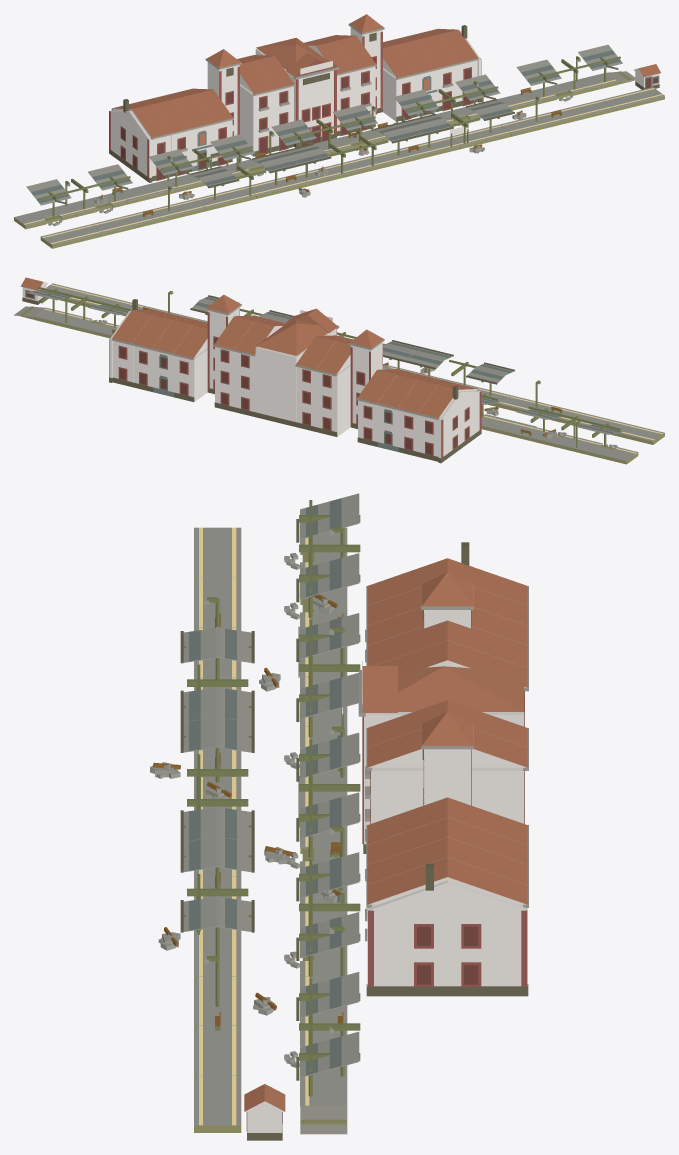
The model's file is SM_EstacionCastellon_v2_LOD1.fbx.
3 renders of one model, top to bottom at view 1: azimuth 30°, elevation 25°; view 2: azimuth 150°, elevation 25°; view 3: azimuth 270°, elevation 25°, orthographic. The views are drawn at different scales.
Visible parts, largest first — view 1: SM_bloques.estacion_castellon_v2_LOD1; view 2: SM_bloques.estacion_castellon_v2_LOD1; view 3: SM_bloques.estacion_castellon_v2_LOD1.
Boxes of the visible parts, box(x1,y1,x2,y2) form: SM_bloques.estacion_castellon_v2_LOD1: box(14, 14, 664, 248); SM_bloques.estacion_castellon_v2_LOD1: box(14, 277, 664, 464); SM_bloques.estacion_castellon_v2_LOD1: box(150, 493, 528, 1140).
Bounding box in the file's own units: 122 × 18.15 × 32.14.
